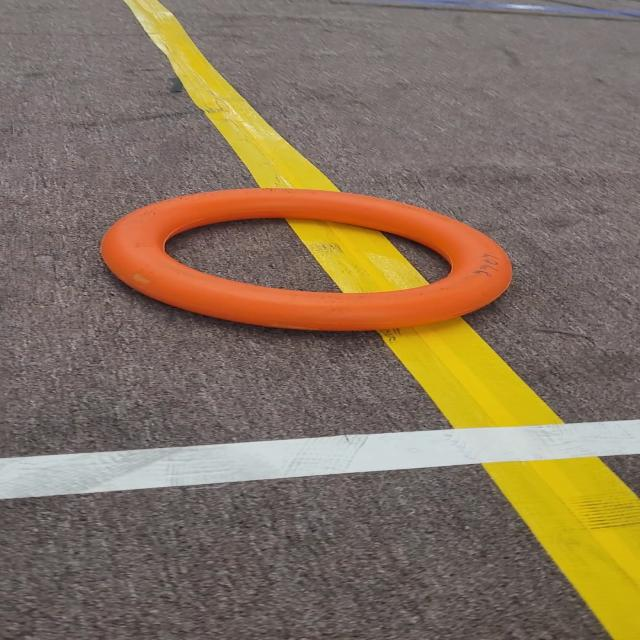note: (91, 174, 557, 362)
